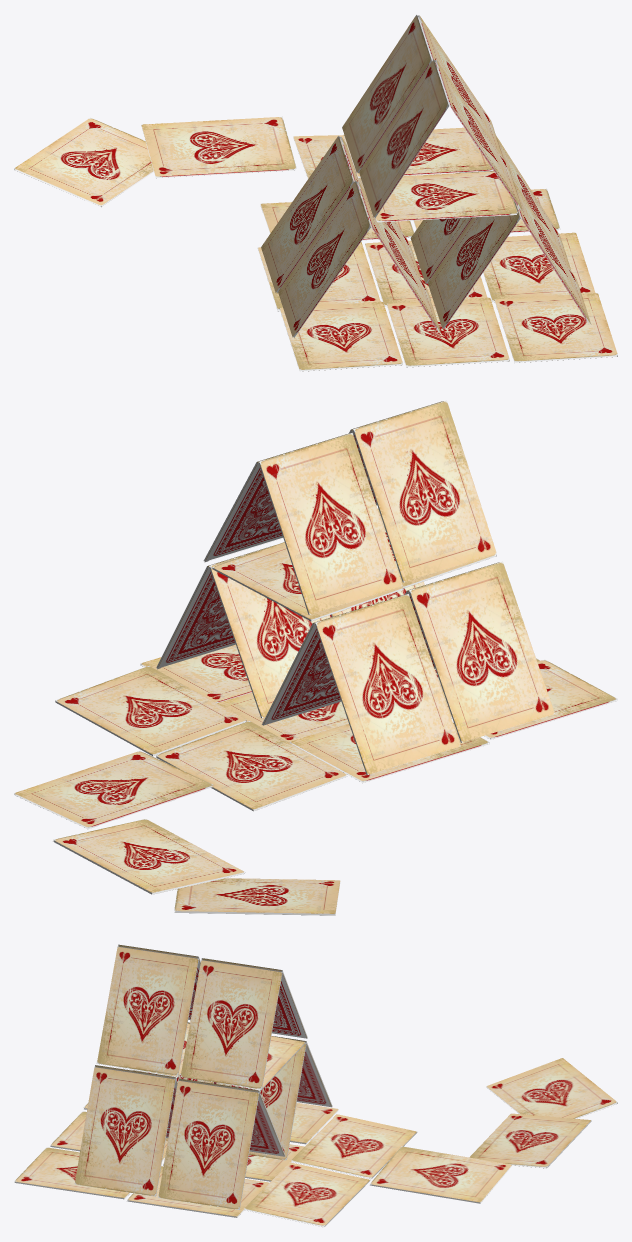
File: card tower.fbx
The picture shows the model from 3 angles, top to bottom: view 1: azimuth 30°, elevation 25°; view 2: azimuth 150°, elevation 25°; view 3: azimuth 270°, elevation 25°; orthographic projection. The views are drawn at different scales.
Visible parts, largest first — view 1: Cube.003, Cube.009, Cube.021, Cube.019, Cube.020, Cube.025, Cube.010, Cube.027, Cube.028, Cube.031, Cube.016, Cube.022 (+13 smaller); view 2: Cube.028, Cube.031, Cube.025, Cube.010, Cube.013, Cube.005, Cube.004, Cube.003, Cube.015, Cube.009, Cube.026, Cube.011 (+6 smaller); view 3: Cube.023, Cube.014, Cube.030, Cube.029, Cube.004, Cube.013, Cube.009, Cube.005, Cube.003, Cube.011, Cube.021, Cube.016 (+9 smaller).
Part boxes in pixels (x1=…): Cube.003: x1=141, y1=116, x2=296, y2=178; Cube.009: x1=14, y1=117, x2=153, y2=206; Cube.021: x1=494, y1=293, x2=617, y2=362; Cube.019: x1=279, y1=301, x2=402, y2=371; Cube.020: x1=387, y1=297, x2=509, y2=367; Cube.025: x1=278, y1=180, x2=370, y2=337; Cube.010: x1=261, y1=136, x2=353, y2=293; Cube.027: x1=375, y1=171, x2=517, y2=222; Cube.028: x1=359, y1=59, x2=448, y2=218; Cube.031: x1=342, y1=15, x2=431, y2=173; Cube.016: x1=483, y1=232, x2=595, y2=302; Cube.022: x1=427, y1=201, x2=520, y2=328; Cube.028: x1=352, y1=400, x2=496, y2=582; Cube.031: x1=258, y1=433, x2=402, y2=614; Cube.025: x1=409, y1=561, x2=554, y2=742; Cube.010: x1=314, y1=594, x2=460, y2=774; Cube.013: x1=55, y1=666, x2=246, y2=756; Cube.005: x1=156, y1=721, x2=347, y2=811; Cube.004: x1=14, y1=751, x2=213, y2=828; Cube.003: x1=53, y1=819, x2=244, y2=894; Cube.015: x1=209, y1=547, x2=330, y2=718; Cube.009: x1=174, y1=878, x2=340, y2=915; Cube.026: x1=211, y1=542, x2=404, y2=621; Cube.011: x1=262, y1=594, x2=404, y2=725; Cube.023: x1=74, y1=1067, x2=175, y2=1196; Cube.014: x1=158, y1=1080, x2=259, y2=1209; Cube.030: x1=180, y1=960, x2=282, y2=1089; Cube.029: x1=97, y1=946, x2=198, y2=1075; Cube.004: x1=370, y1=1146, x2=511, y2=1203; Cube.013: x1=244, y1=1162, x2=370, y2=1227; Cube.009: x1=486, y1=1058, x2=617, y2=1118; Cube.005: x1=291, y1=1114, x2=417, y2=1179; Cube.003: x1=469, y1=1113, x2=591, y2=1168; Cube.011: x1=216, y1=1043, x2=306, y2=1160; Cube.021: x1=14, y1=1147, x2=130, y2=1199; Cube.016: x1=127, y1=1166, x2=269, y2=1217.
Size of the model in its own units: 3780 by 2175 by 6063.
